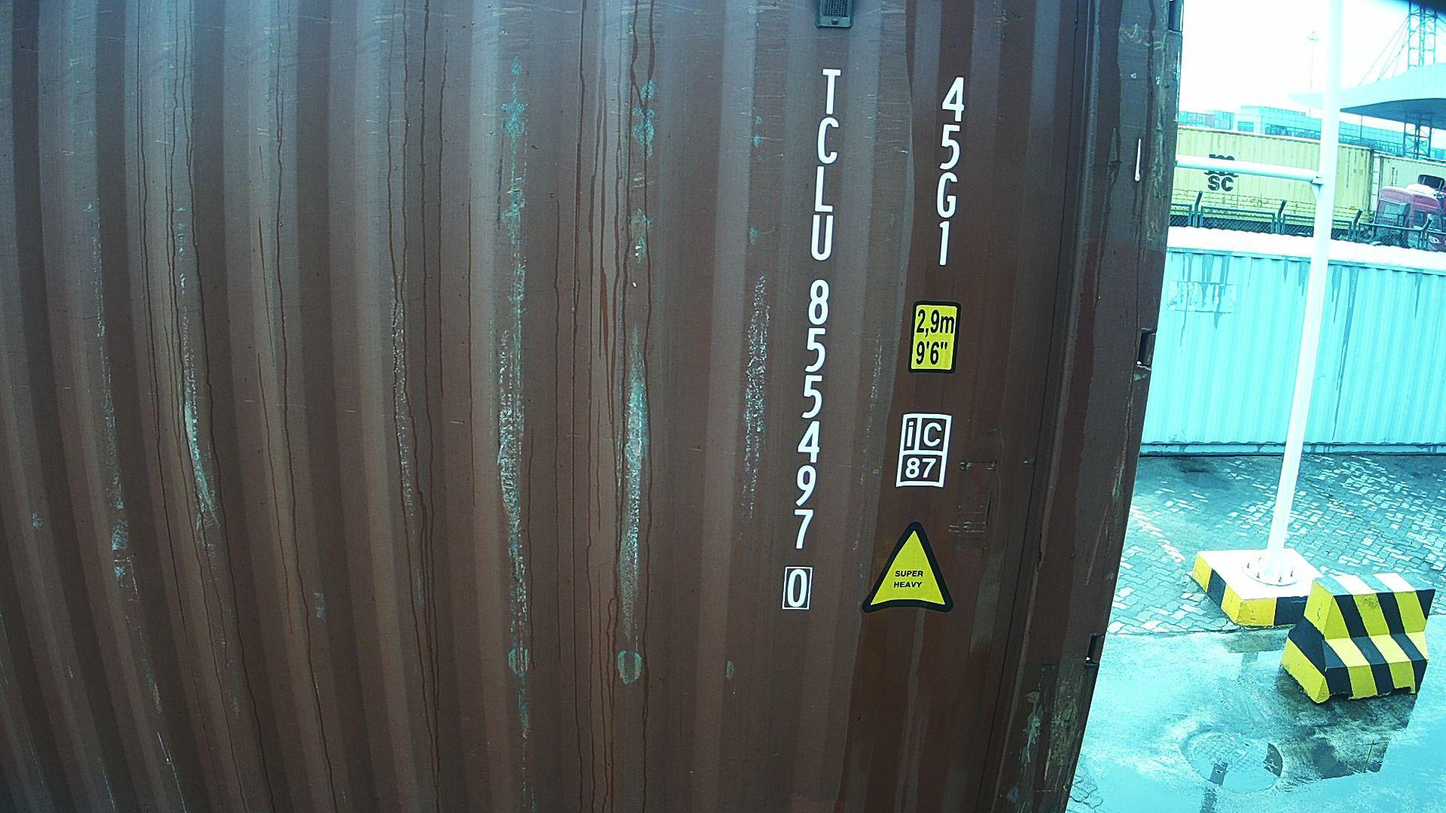container-numbers: (778, 65, 846, 617), (926, 70, 972, 272)
